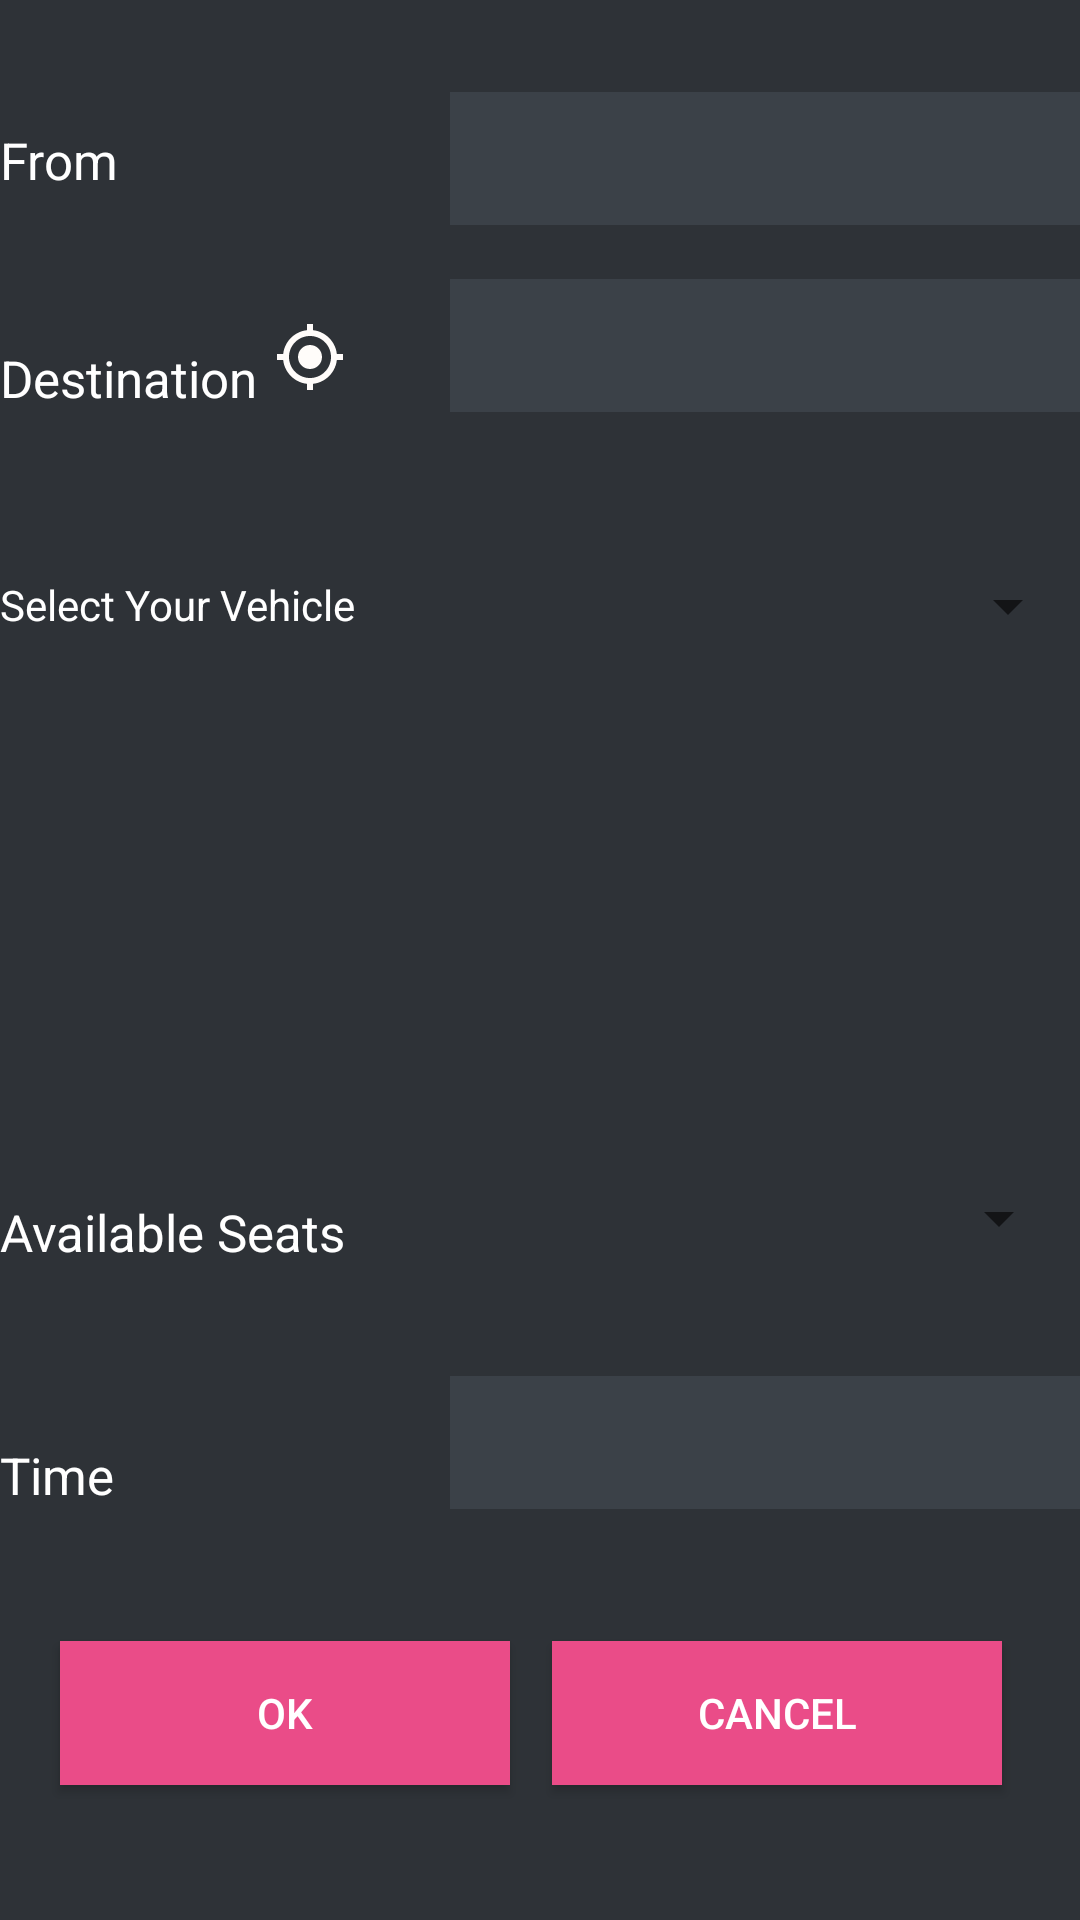

Named icons in this screenshot (1080px×1920px) and their centers, (x,y):
gps fixed: (310,357)
